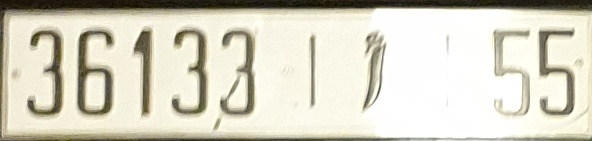1: (131, 25, 154, 117)
3: (169, 28, 210, 116), (219, 26, 258, 117), (25, 28, 64, 118)
5: (489, 26, 532, 118), (536, 26, 578, 118)
6: (75, 28, 116, 118)
a: (360, 28, 388, 115)
